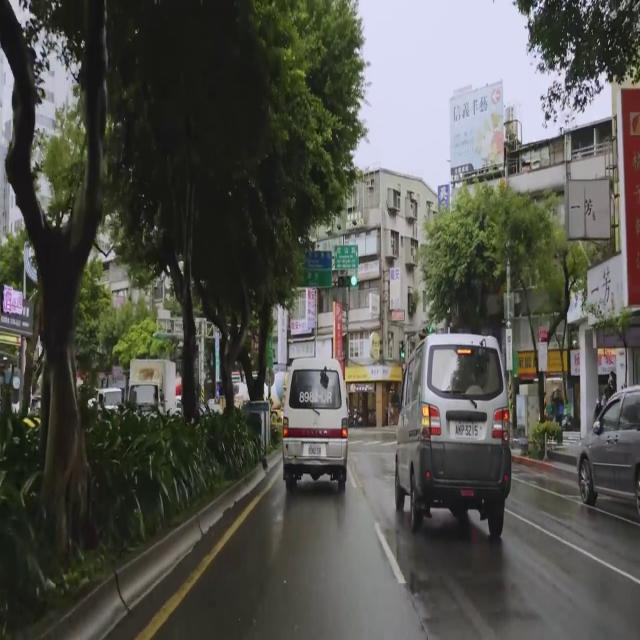green light: (338, 276, 358, 287)
